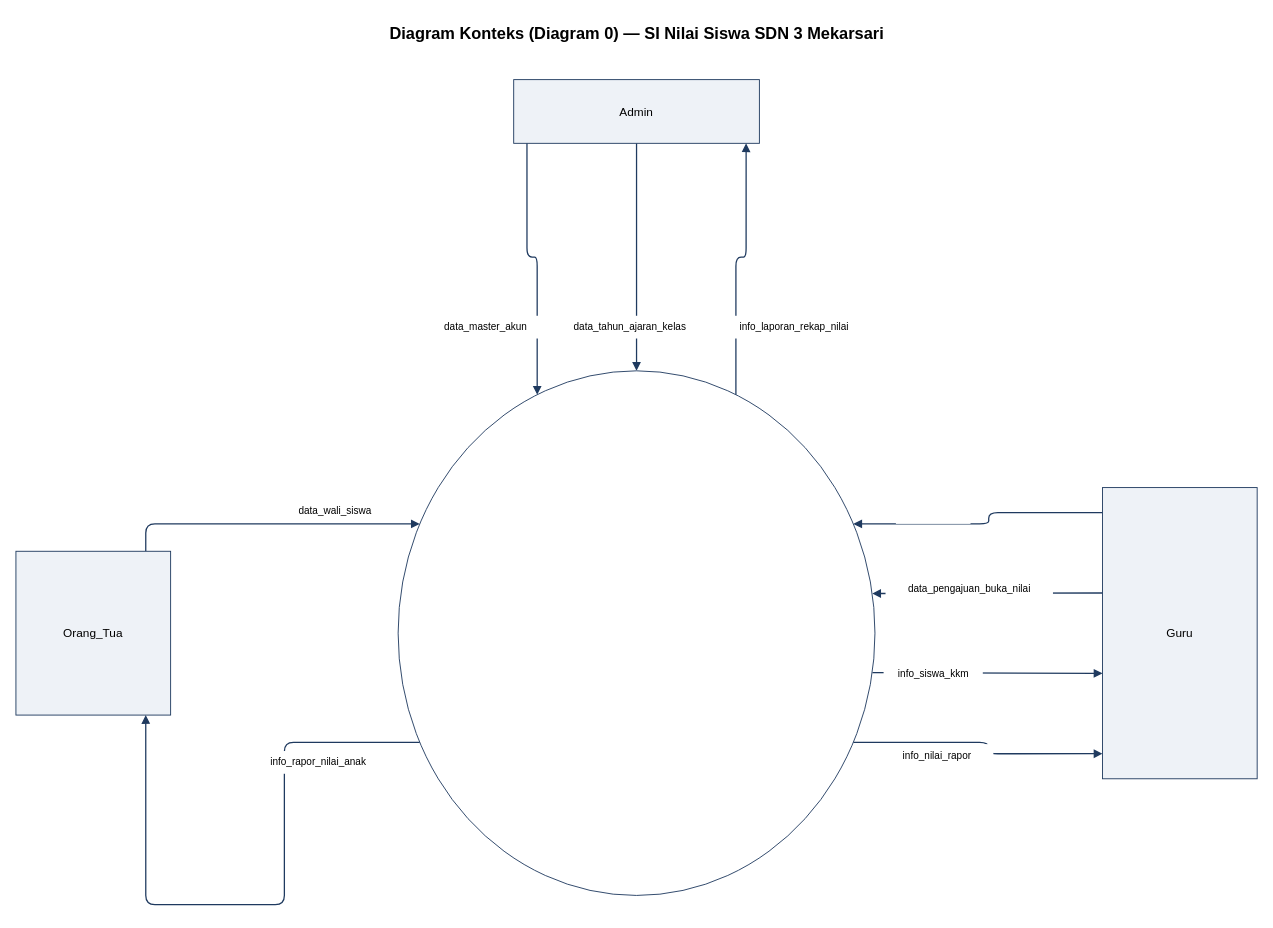
This 1273x928 diagram has some shape labels left out. Each missing label, with the centre of its shape:
"0 Sistem Informasi Manajemen Nilai Siswa SDN 3 Mekarsari" goes at (636,632).
"data_nilai" goes at (932,512).
